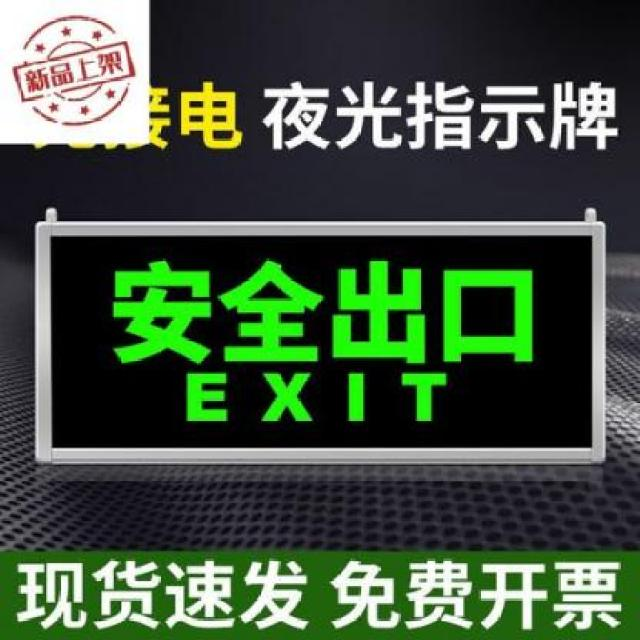exit_sign: (51, 231, 595, 450)
